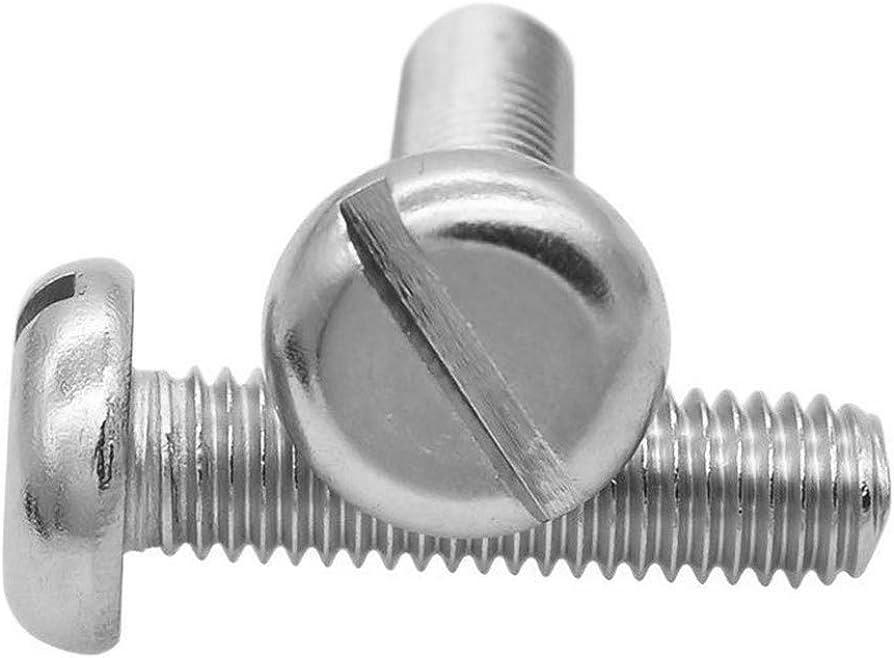screw: (260, 162, 668, 540)
